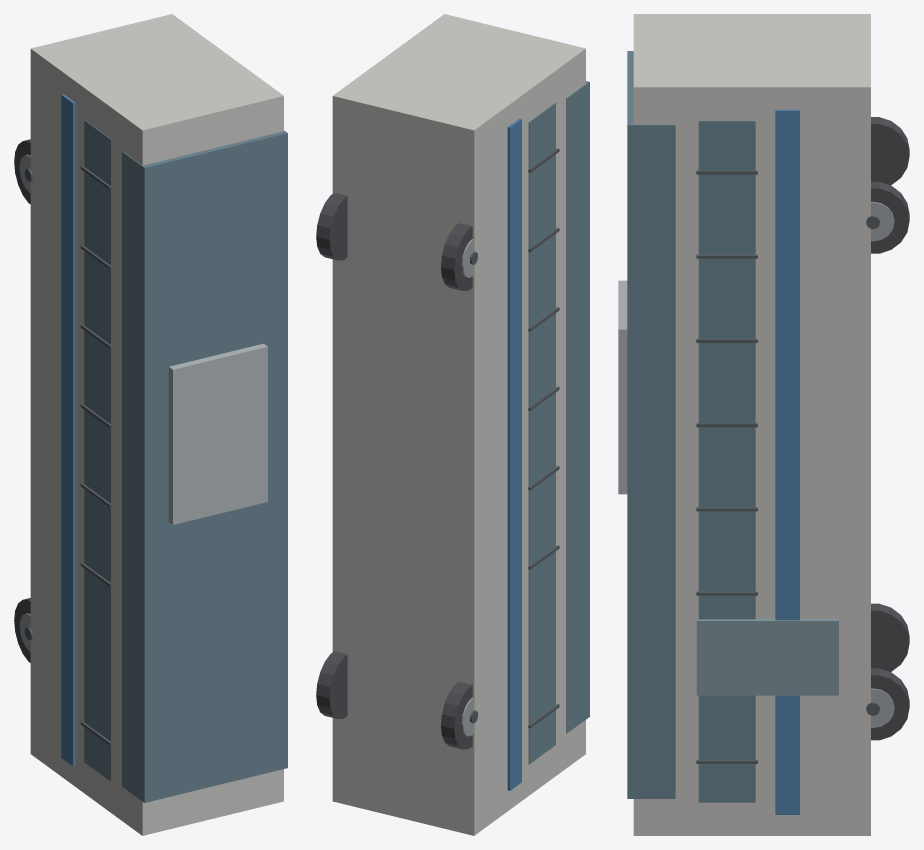
The model's file is double_decker_bus.glb.
3 renders of one model, left to right at view 1: azimuth 30°, elevation 25°; view 2: azimuth 150°, elevation 25°; view 3: azimuth 270°, elevation 25°, orthographic. The views are drawn at different scales.
Visible parts, largest first — view 1: 0002_Upper_deck_windows, 0000_Bus_body, 0001_Bus_window_band, 0022_Roof_AC, 0003_Transit_blue_livery, 0023_Wheel_tire, 0029_Wheel_tire; view 2: 0000_Bus_body, 0001_Bus_window_band, 0002_Upper_deck_windows, 0003_Transit_blue_livery, 0032_Wheel_tire, 0026_Wheel_tire, 0023_Wheel_tire, 0029_Wheel_tire; view 3: 0000_Bus_body, 0001_Bus_window_band, 0002_Upper_deck_windows, 0004_Transit_blue_livery, 0007_Passenger_doors, 0023_Wheel_tire, 0029_Wheel_tire, 0022_Roof_AC, 0026_Wheel_tire, 0032_Wheel_tire, 0027_Wheel_rim, 0033_Wheel_rim.
Part boxes in pixels (x1,y1,x2,y2): 0002_Upper_deck_windows: (122,130,287,802); 0000_Bus_body: (30,14,283,835); 0001_Bus_window_band: (84,120,111,781); 0022_Roof_AC: (168,343,267,524); 0003_Transit_blue_livery: (61,94,75,766); 0023_Wheel_tire: (14,598,30,662); 0029_Wheel_tire: (14,139,30,204); 0000_Bus_body: (332,14,585,835); 0001_Bus_window_band: (528,102,555,764); 0002_Upper_deck_windows: (566,81,589,733); 0003_Transit_blue_livery: (507,118,521,790); 0032_Wheel_tire: (316,192,347,260); 0026_Wheel_tire: (316,651,347,719); 0023_Wheel_tire: (441,681,472,749); 0029_Wheel_tire: (441,223,472,290); 0000_Bus_body: (633,14,870,835); 0001_Bus_window_band: (698,121,755,802); 0002_Upper_deck_windows: (627,51,675,798); 0004_Transit_blue_livery: (775,109,799,814); 0007_Passenger_doors: (696,619,838,695); 0023_Wheel_tire: (871,603,909,671); 0029_Wheel_tire: (871,117,909,185); 0022_Roof_AC: (618,280,627,494); 0026_Wheel_tire: (871,668,909,740); 0032_Wheel_tire: (871,181,909,253); 0027_Wheel_rim: (871,688,894,727); 0033_Wheel_rim: (871,202,894,241).
Size of the model in its own units: 2.64 by 12.09 by 4.23.
